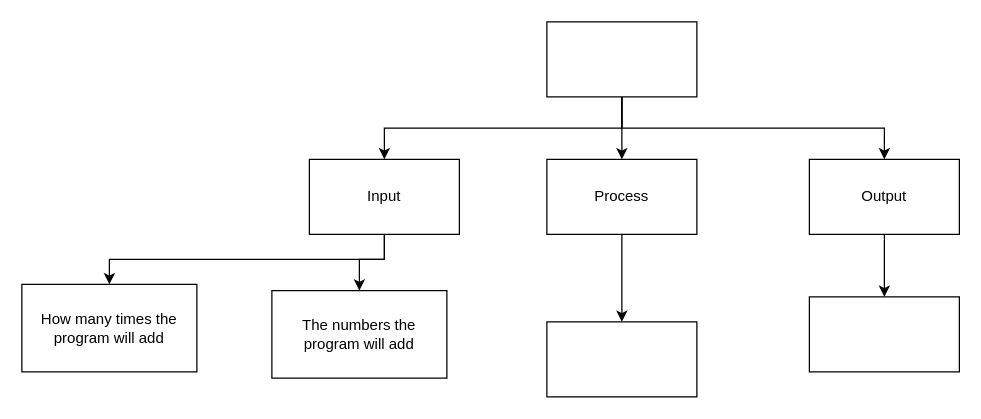
The diagram is 981 pixels wide and 419 high, and some of its shapes have lost their labels. The shapes that lost their labels are listed below. From the top down, each one's centre as x and y in pixels, then its label:
At pixel 621 59: "Adding".
At pixel 883 334: "Show the result sum".
At pixel 621 359: "Add all positive number".
